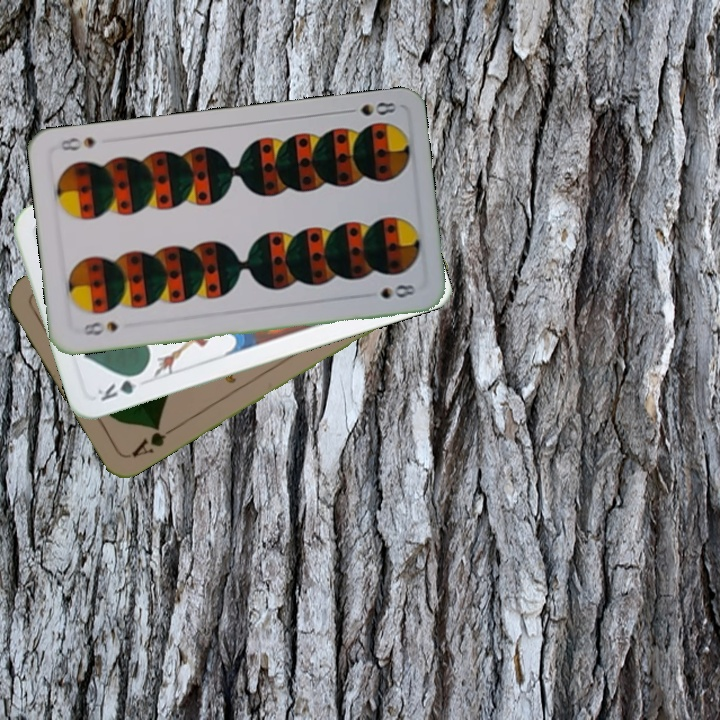GA: (127, 420, 180, 460)
GK: (93, 368, 147, 404)
S8: (340, 98, 399, 119), (77, 317, 120, 338)
